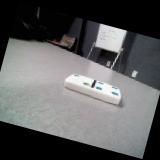domino: (64, 74, 121, 104)
